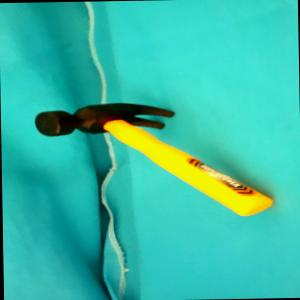martelo: (32, 99, 276, 220)
